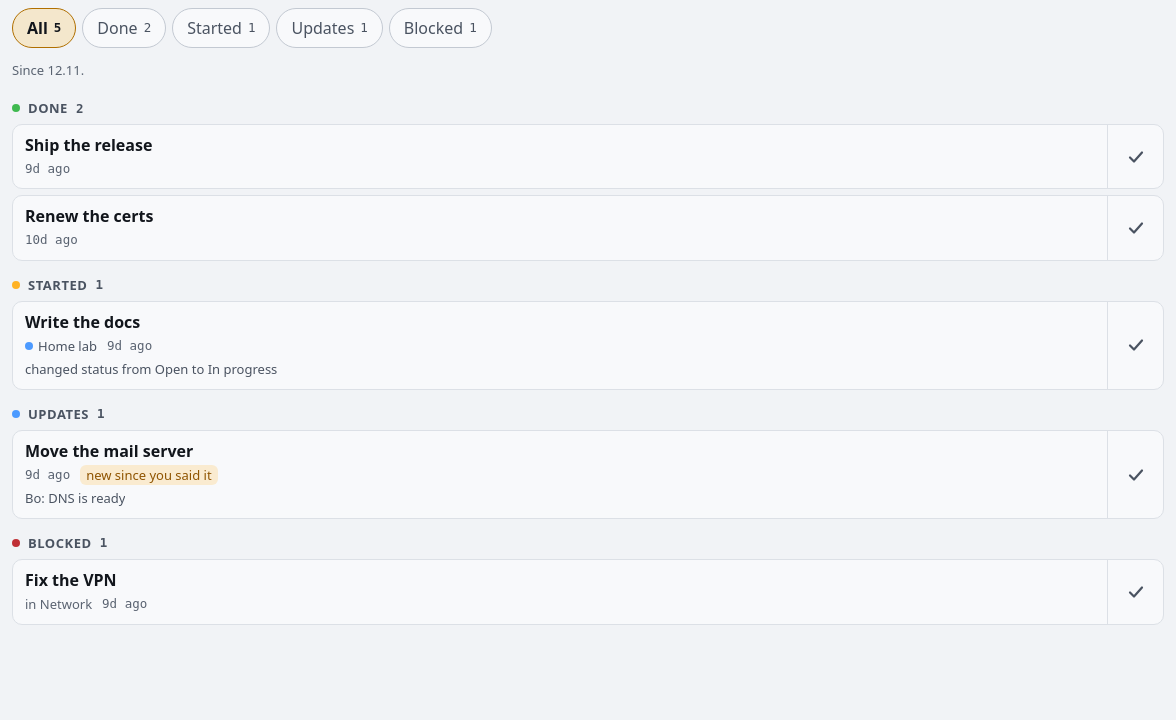
Scenario: standup list › ticks an item at once, sends what it covered, and undoes it from Said at
Click the button named "Said: Write the docs": coordinates (1135, 345) [1107, 302, 1163, 389]
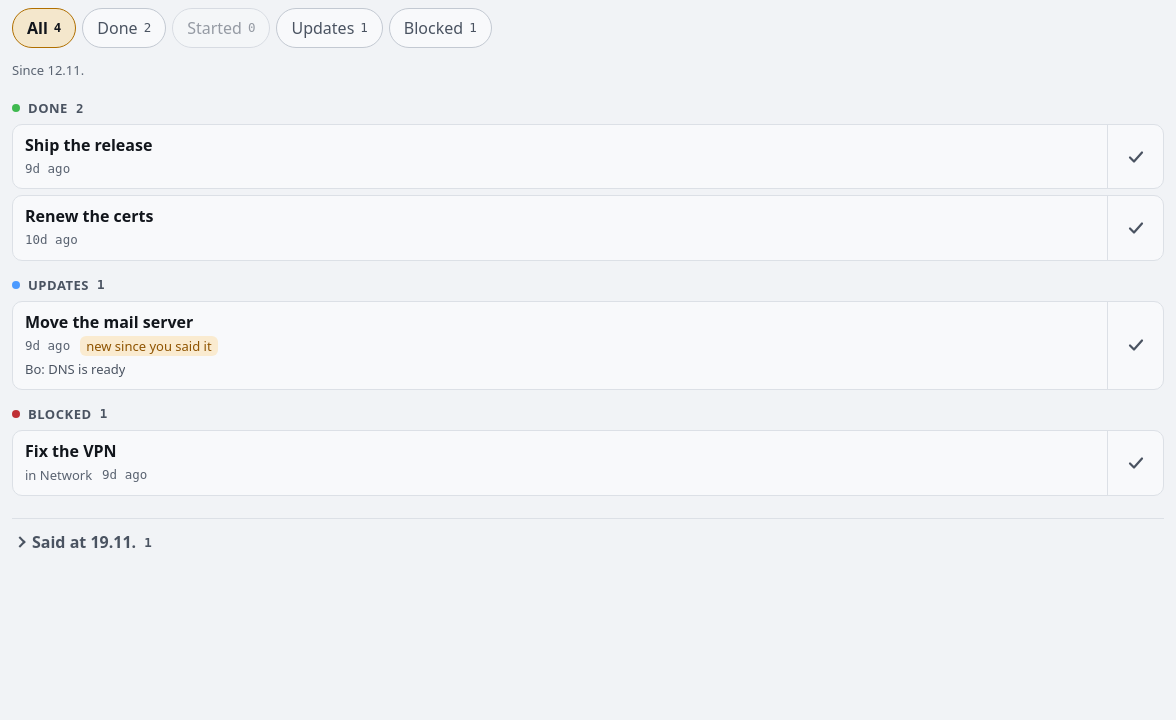
Expected: the button "Started 0" is shown, [172, 8, 270, 48]
Expected: the button "Said at 19.11. 1" is shown
Click the button "Said at 19.11. 1": coordinates (61, 542) [12, 518, 1164, 566]
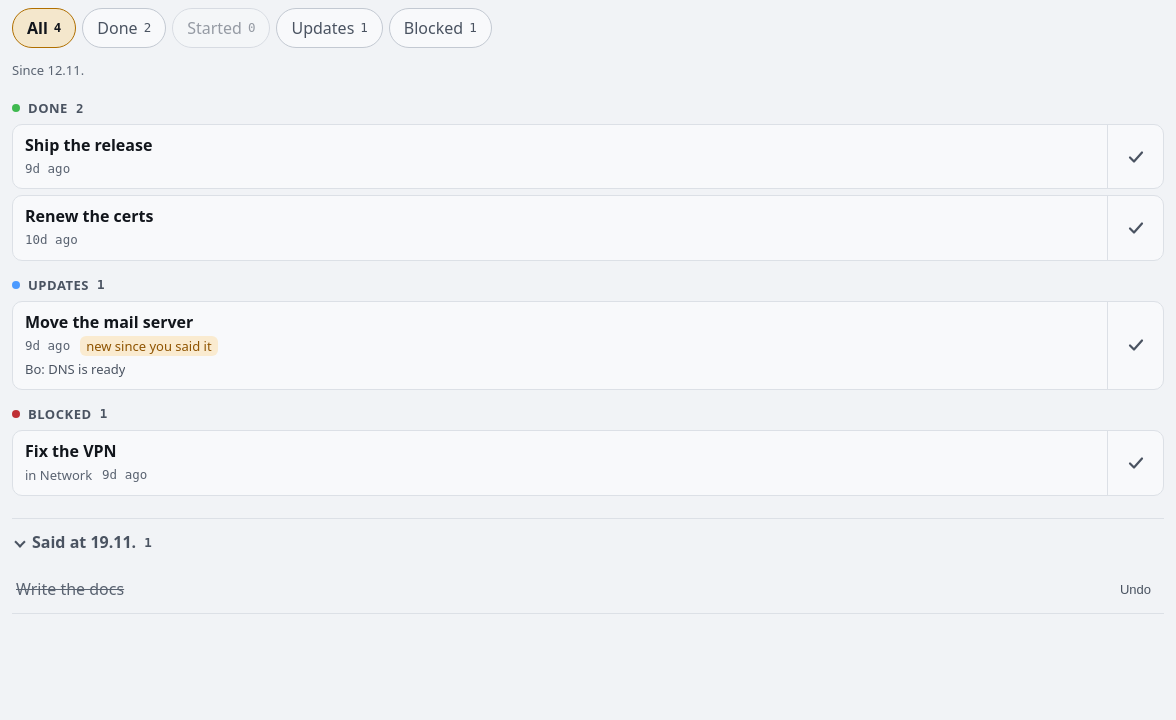
Expected: the text "Write the docs" is shown, [16, 578, 124, 600]
Click the button "Undo": coordinates (1135, 589) [1111, 569, 1160, 609]
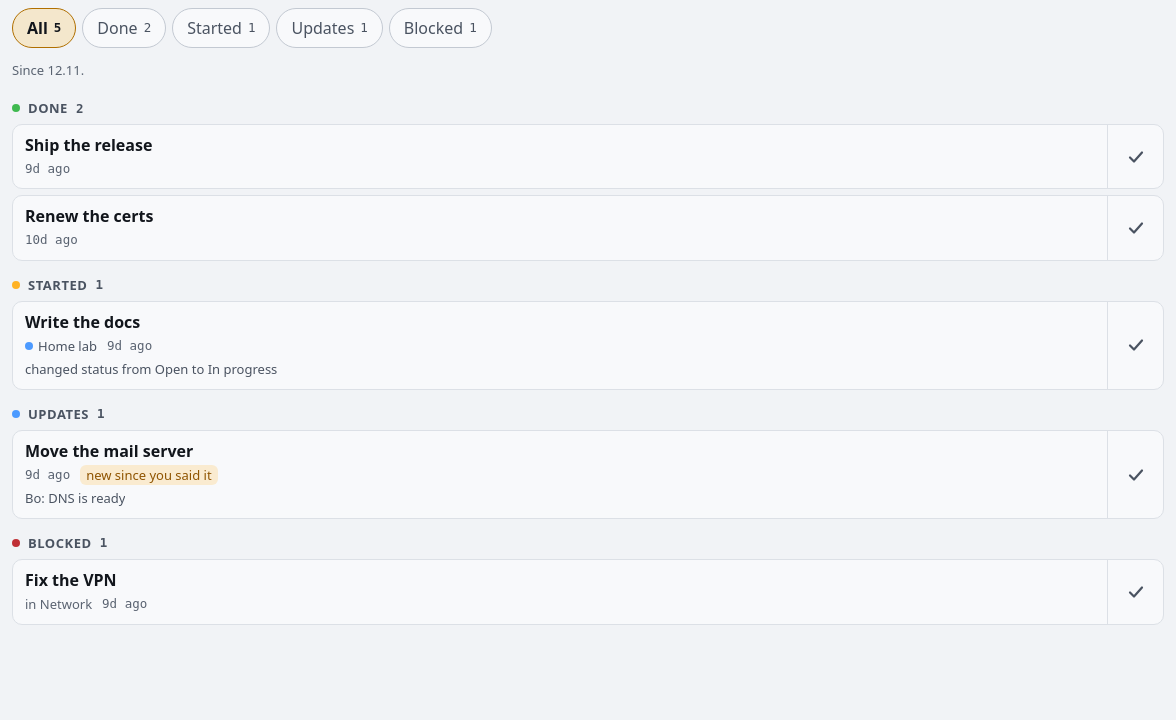
Expected: the button named "Said: Write the docs" is shown, [1107, 302, 1163, 389]
Expected: the button "Said at 19.11." is gone
